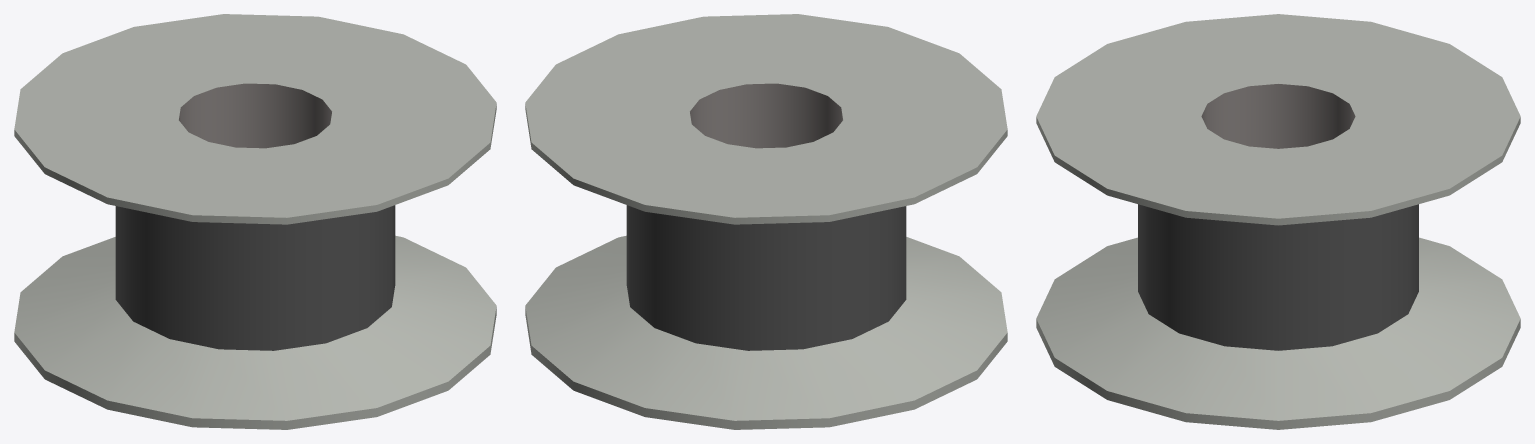
The model's file is SM_Reel_01.fbx.
The picture shows the model from 3 angles, left to right: view 1: azimuth 30°, elevation 25°; view 2: azimuth 150°, elevation 25°; view 3: azimuth 270°, elevation 25°; orthographic projection.
Visible parts, largest first — view 1: SM_Reel_01; view 2: SM_Reel_01; view 3: SM_Reel_01.
Boxes of the visible parts, <box> form: SM_Reel_01: <box>14,14,496,429</box>; SM_Reel_01: <box>525,14,1007,429</box>; SM_Reel_01: <box>1036,14,1520,429</box>.
Size of the model in its own units: 162 by 77.89 by 162.
